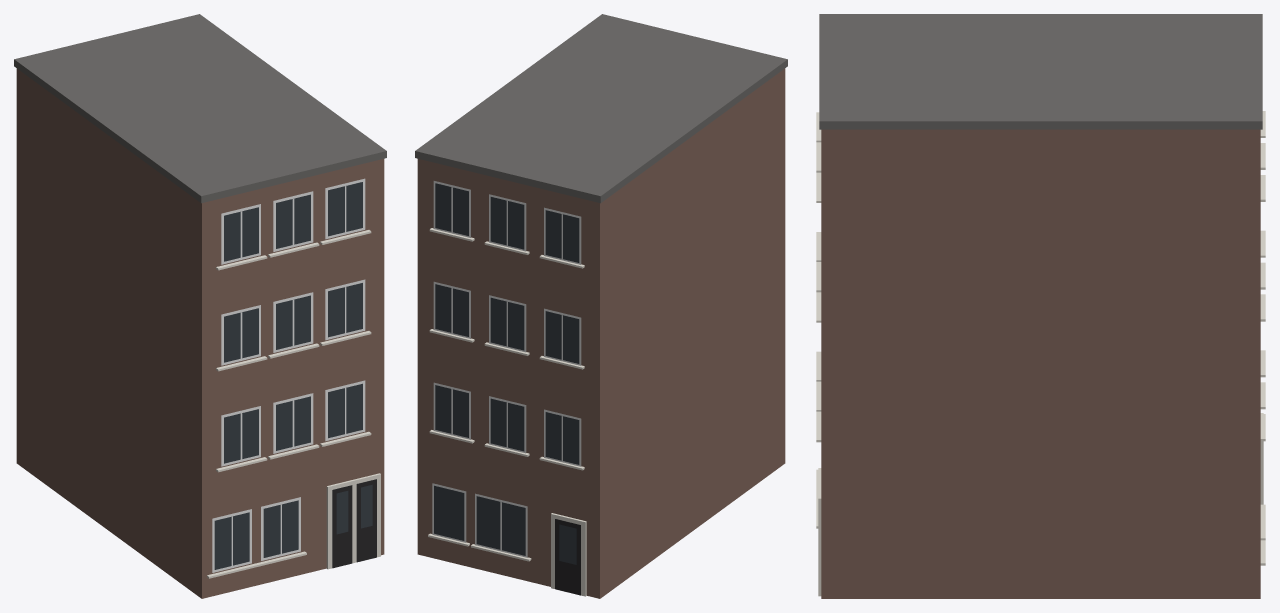
Rendered from we-or-three__portiek__4__flat__long__solid__mirror.glb.
3 views of the same model, side by side, from view 1: azimuth 30°, elevation 25°; view 2: azimuth 150°, elevation 25°; view 3: azimuth 270°, elevation 25° (orthographic). The views are drawn at different scales.
Visible parts, largest first — view 1: we-or-three__portiek__4__flat__long__solid__mirror; view 2: we-or-three__portiek__4__flat__long__solid__mirror; view 3: we-or-three__portiek__4__flat__long__solid__mirror.
Part boxes in pixels (x1=…): we-or-three__portiek__4__flat__long__solid__mirror: x1=14, y1=14, x2=386, y2=598; we-or-three__portiek__4__flat__long__solid__mirror: x1=415, y1=14, x2=787, y2=598; we-or-three__portiek__4__flat__long__solid__mirror: x1=816, y1=14, x2=1265, y2=598.
Bounding box in the file's own units: 6.06 × 12.6 × 10.73.
